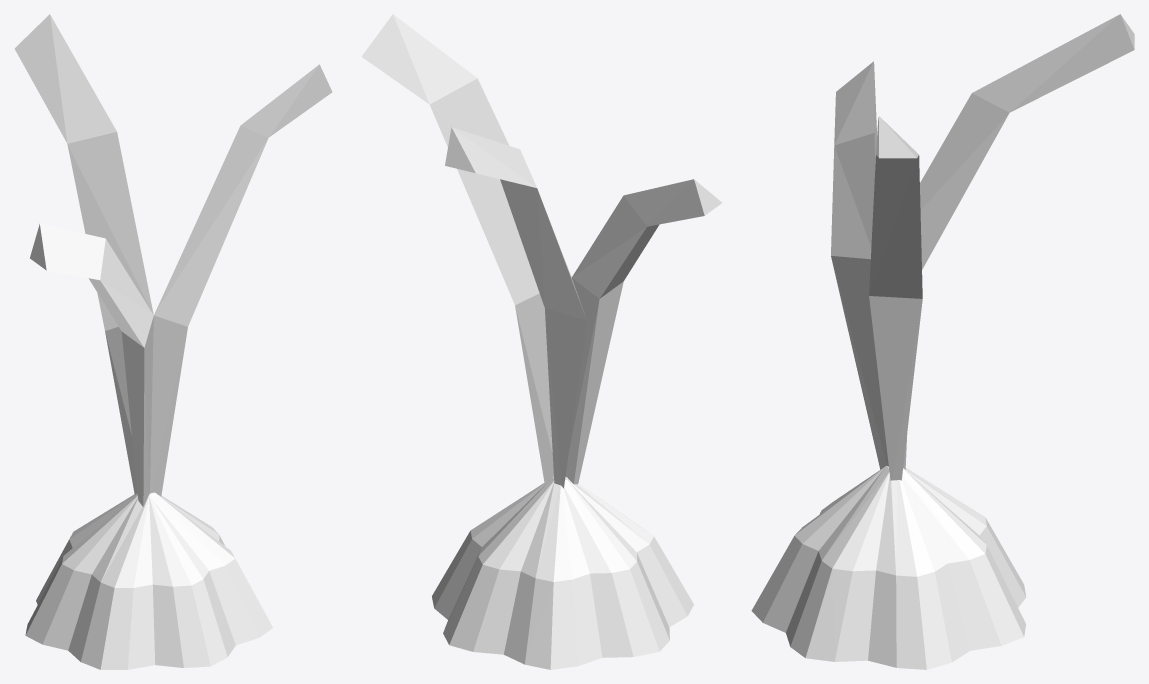
File: Crop_Garlic_STAGE_3_01.glb
3 renders of one model, left to right at view 1: azimuth 30°, elevation 25°; view 2: azimuth 150°, elevation 25°; view 3: azimuth 270°, elevation 25°, orthographic. The views are drawn at different scales.
Visible parts, largest first — view 1: Crop_Garlic_STAGE_3_01; view 2: Crop_Garlic_STAGE_3_01; view 3: Crop_Garlic_STAGE_3_01.
Part boxes in pixels (x1,y1,x2,y2): Crop_Garlic_STAGE_3_01: (14, 14, 332, 669); Crop_Garlic_STAGE_3_01: (361, 14, 722, 669); Crop_Garlic_STAGE_3_01: (751, 14, 1134, 669).
Size of the model in its own units: 0.1392 by 0.2319 by 0.1345.
1 material, 1 textured.
